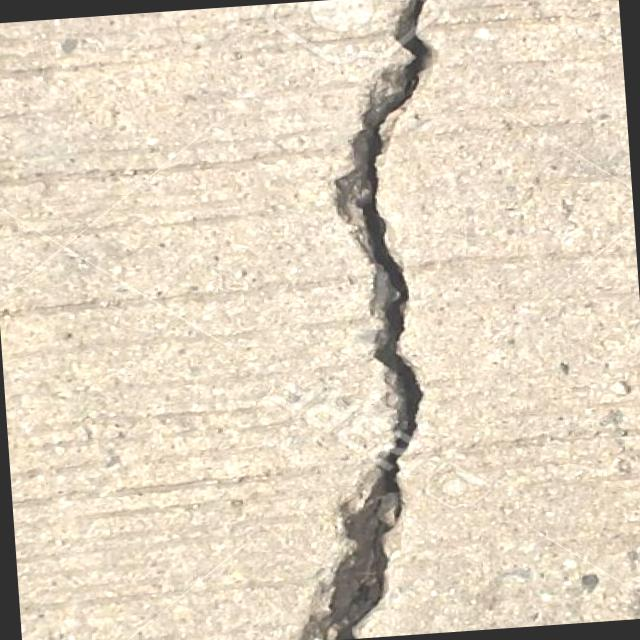crack: (248, 0, 481, 640)
